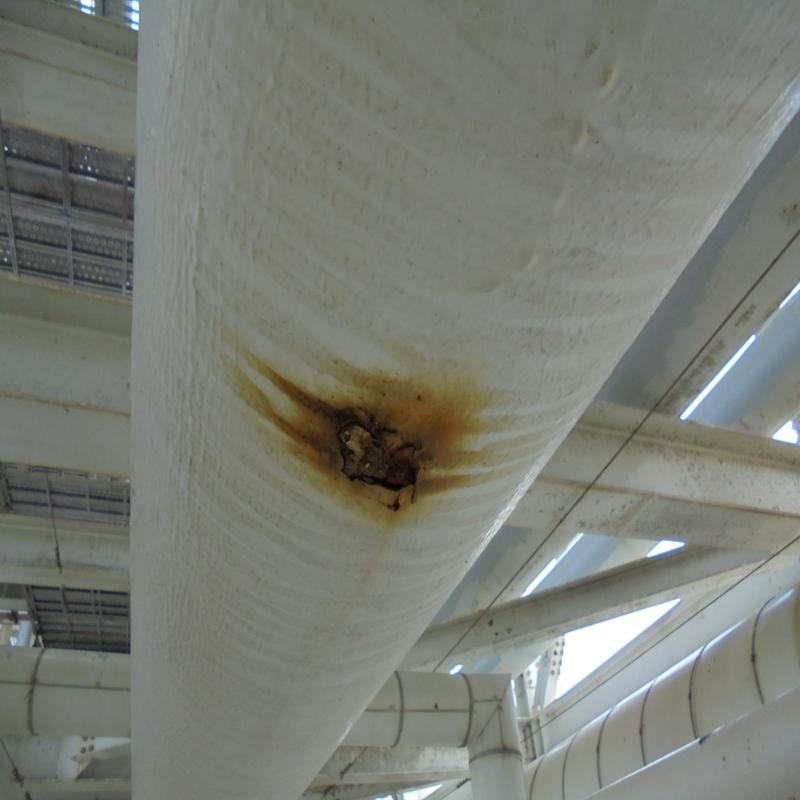corrosion: (324, 389, 426, 506)
